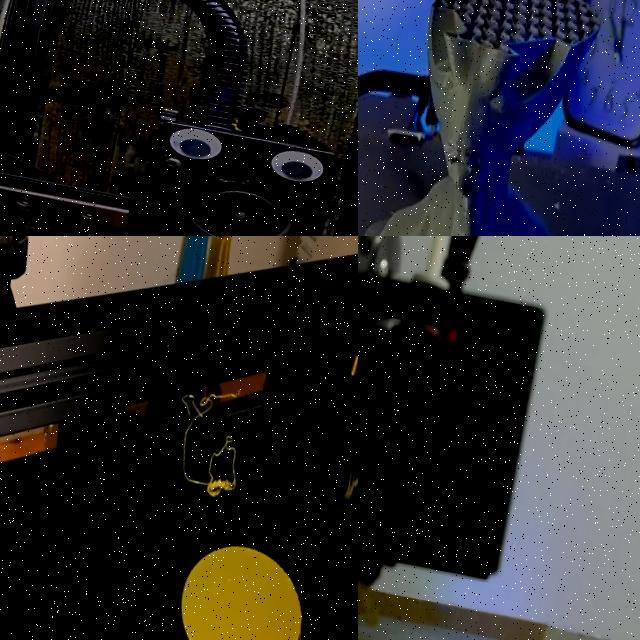spaghetti: (156, 362, 276, 522), (325, 400, 358, 610)
